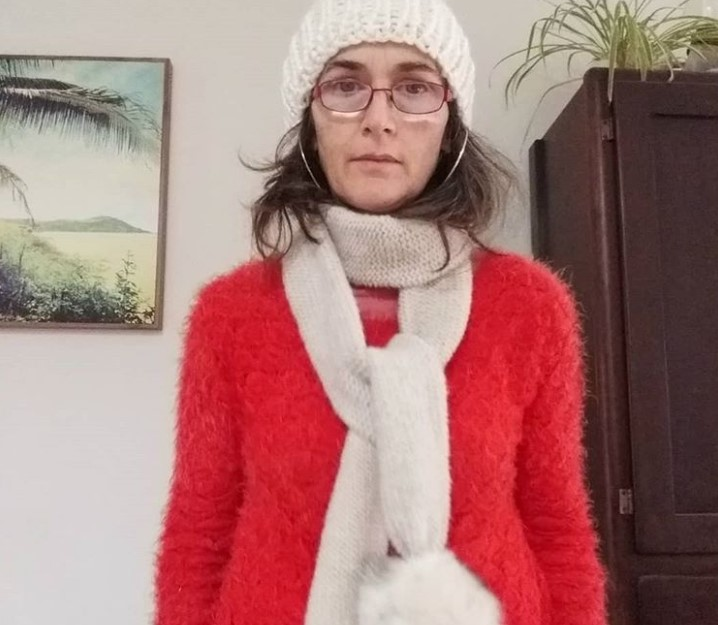face_no_mask: (301, 26, 453, 205)
